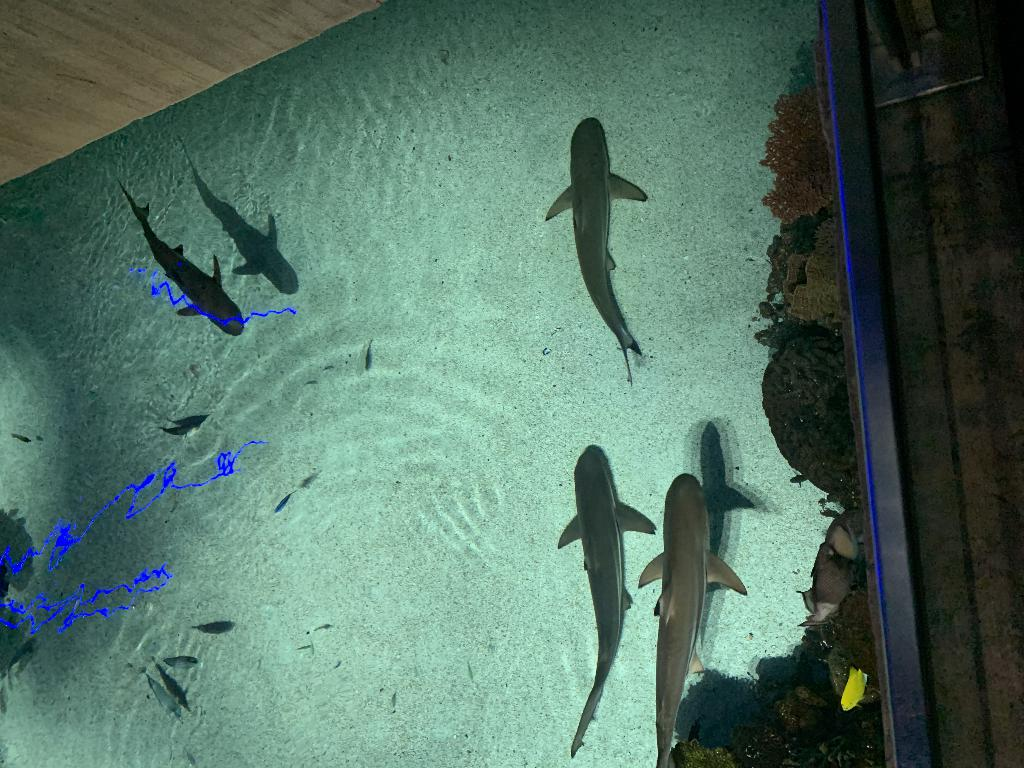fish: (132, 663, 184, 725), (834, 662, 870, 712), (358, 331, 388, 385), (158, 418, 204, 444), (154, 645, 202, 669), (270, 490, 298, 518)
shark: (636, 474, 752, 766), (554, 434, 656, 760), (542, 115, 648, 371), (116, 179, 244, 337)
